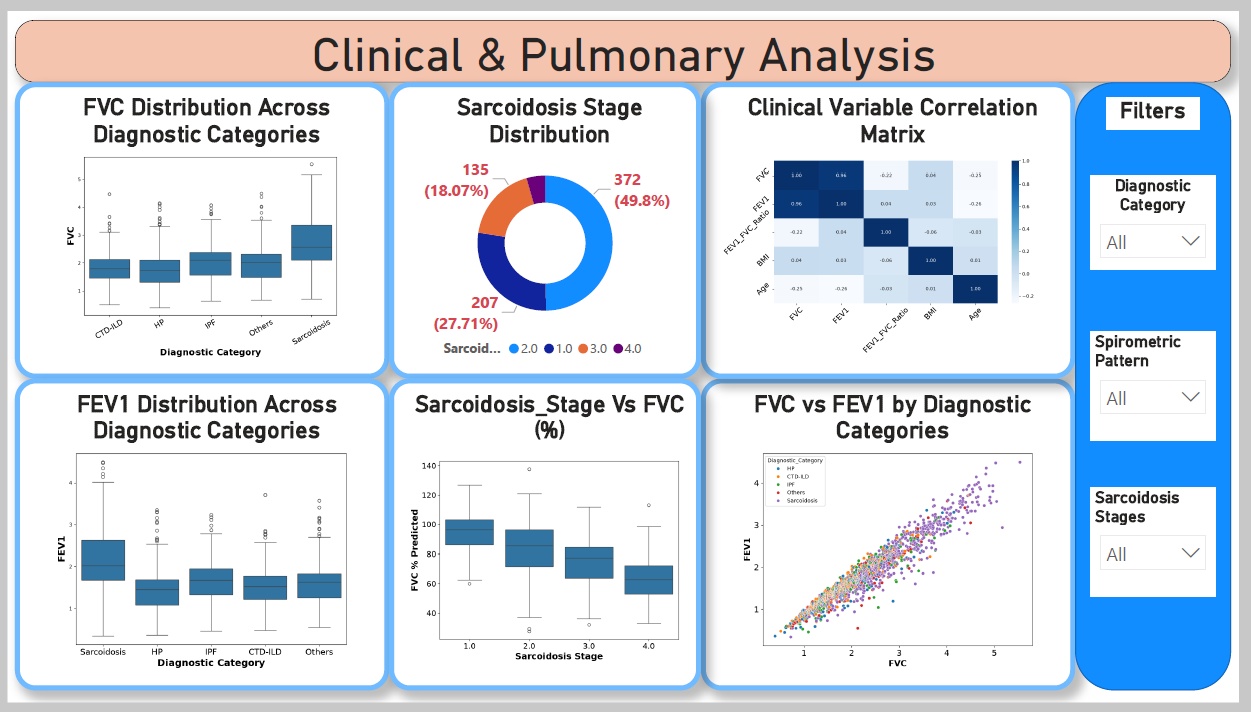

What the dashboard file says about the page in this screenshot:
{"tool":"powerbi","page":{"name":"Clinical Findings & Lung Function Analysis","canvas":[1280,720],"ordinal":2},"visuals":[{"type":"textbox","title":"Clinical & Pulmonary Analysis","box":[16,16,1248,64],"z":0},{"type":"pythonVisual","title":"FVC Distribution Across Diagnostic Categories","fields":{"Values":["Clinical_Analysis_of_ILD_Cleaned_Dataset.Diagnostic_Category","Clinical_Analysis_of_ILD_Cleaned_Dataset.FVC","Clinical_Analysis_of_ILD_Cleaned_Dataset.Patient_ID"]},"box":[16,80,384,304],"z":1000},{"type":"pythonVisual","title":"FEV1 Distribution Across Diagnostic Categories","fields":{"Values":["Clinical_Analysis_of_ILD_Cleaned_Dataset.FEV1","Clinical_Analysis_of_ILD_Cleaned_Dataset.Diagnostic_Category","Clinical_Analysis_of_ILD_Cleaned_Dataset.Patient_ID"]},"box":[16,384,384,320],"z":2000},{"type":"pythonVisual","title":"FVC vs FEV1 by Diagnostic Categories","fields":{"Values":["Clinical_Analysis_of_ILD_Cleaned_Dataset.FVC","Clinical_Analysis_of_ILD_Cleaned_Dataset.FEV1","Clinical_Analysis_of_ILD_Cleaned_Dataset.Patient_ID","Clinical_Analysis_of_ILD_Cleaned_Dataset.Diagnostic_Category"]},"box":[720,384,384,320],"z":3000},{"type":"pythonVisual","title":"Clinical Variable Correlation Matrix","fields":{"Values":["Clinical_Analysis_of_ILD_Cleaned_Dataset.FEV1","Clinical_Analysis_of_ILD_Cleaned_Dataset.FVC","Clinical_Analysis_of_ILD_Cleaned_Dataset.FEV1_Percentage_Predicted","Clinical_Analysis_of_ILD_Cleaned_Dataset.FVC_Percentage_Predicted","Clinical_Analysis_of_ILD_Cleaned_Dataset.BMI","Clinical_Analysis_of_ILD_Cleaned_Dataset.Age","Clinical_Analysis_of_ILD_Cleaned_Dataset.FEV1_FVC_Ratio"]},"box":[720,80,384,304],"z":4000},{"type":"donutChart","title":"Sarcoidosis Stage Distribution","fields":{"Y":["CountNonNull(Clinical_Analysis_of_ILD_Cleaned_Dataset.Patient_ID)"],"Category":["Clinical_Analysis_of_ILD_Cleaned_Dataset.Sarcoidosis_Stage"]},"box":[400,80,320,304],"z":5000},{"type":"pythonVisual","title":"Sarcoidosis_Stage Vs FVC (%)","fields":{"Values":["Clinical_Analysis_of_ILD_Cleaned_Dataset.Sarcoidosis_Stage","Clinical_Analysis_of_ILD_Cleaned_Dataset.FVC_Percentage_Predicted"]},"box":[400,384,320,320],"z":6000},{"type":"shape","box":[1104,80,160,624],"z":7000},{"type":"textbox","title":"Filters","box":[1136,96,96,32],"z":8000},{"type":"slicer","title":"Diagnostic Category","fields":{"Values":["Clinical_Analysis_of_ILD_Cleaned_Dataset.Diagnostic_Category"]},"box":[1120,176,128,96],"z":9000},{"type":"slicer","title":"Spirometric Pattern","fields":{"Values":["Clinical_Analysis_of_ILD_Cleaned_Dataset.Spirometric_Pattern"]},"box":[1120,336,128,112],"z":10000},{"type":"slicer","title":"Sarcoidosis Stages","fields":{"Values":["Clinical_Analysis_of_ILD_Cleaned_Dataset.Sarcoidosis_Stage"]},"box":[1120,496,128,112],"z":11000}]}

Visuals, with their boxes in screenshot pixels (x1, y1, x2, y2), scaled from the page's 1280x720 canvas onto the 1251x712 screenshot:
"Clinical & Pulmonary Analysis" textbox: <box>16,16,1235,79</box>
"FVC Distribution Across Diagnostic Categories" pythonVisual: <box>16,79,391,380</box>
"FEV1 Distribution Across Diagnostic Categories" pythonVisual: <box>16,380,391,696</box>
"FVC vs FEV1 by Diagnostic Categories" pythonVisual: <box>704,380,1079,696</box>
"Clinical Variable Correlation Matrix" pythonVisual: <box>704,79,1079,380</box>
"Sarcoidosis Stage Distribution" donutChart: <box>391,79,704,380</box>
"Sarcoidosis_Stage Vs FVC (%)" pythonVisual: <box>391,380,704,696</box>
shape: <box>1079,79,1235,696</box>
"Filters" textbox: <box>1110,95,1204,127</box>
"Diagnostic Category" slicer: <box>1095,174,1220,269</box>
"Spirometric Pattern" slicer: <box>1095,332,1220,443</box>
"Sarcoidosis Stages" slicer: <box>1095,490,1220,601</box>
